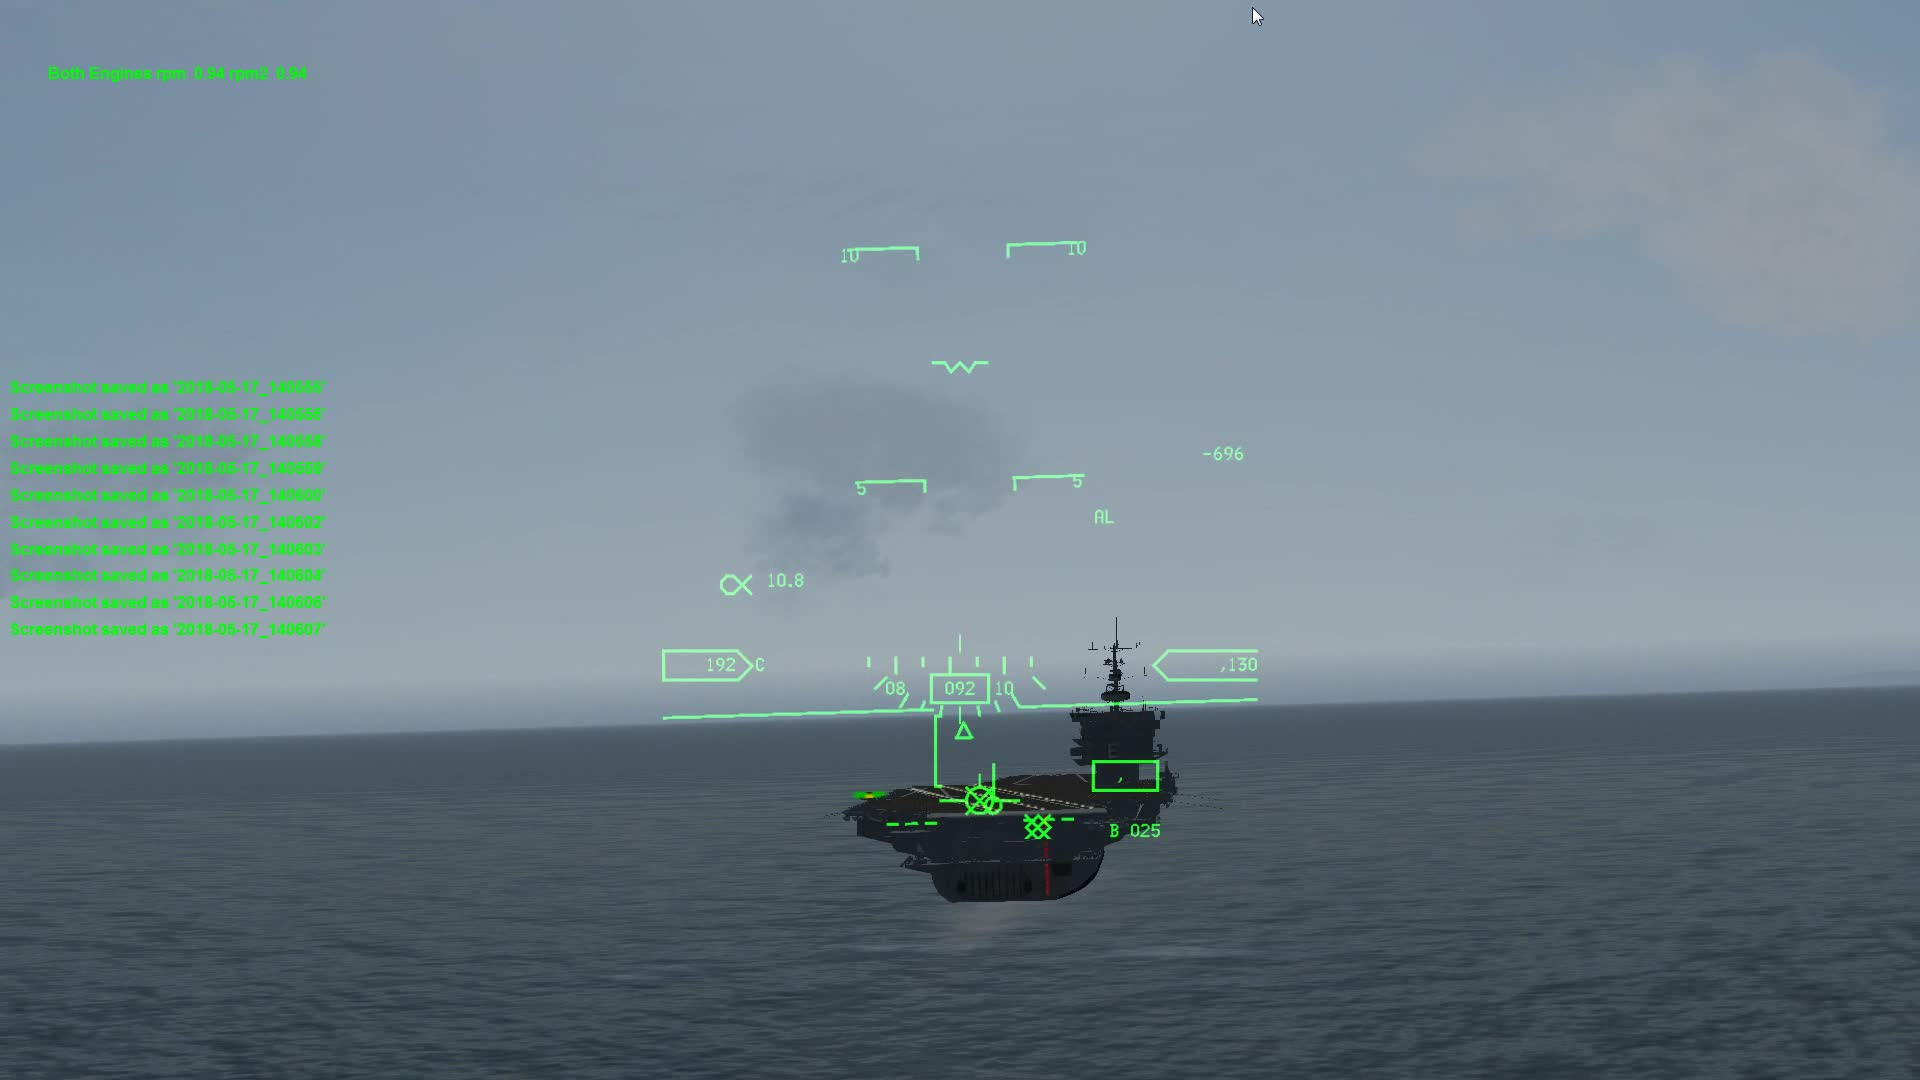speed vector: (938, 771, 1022, 812)
